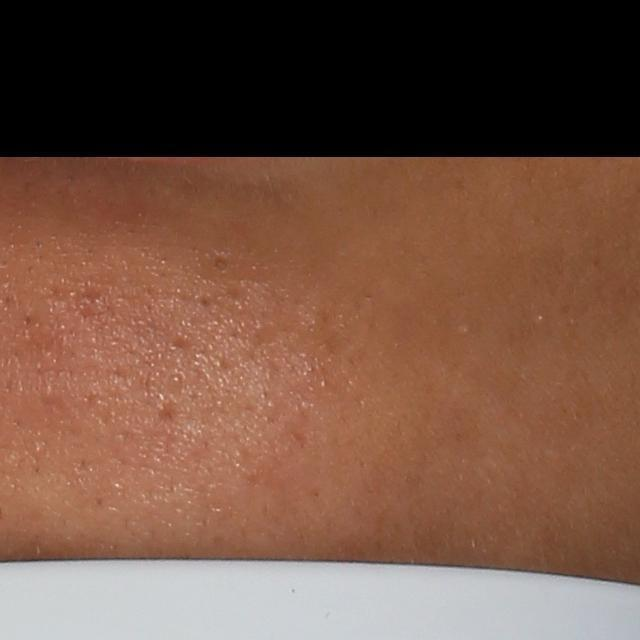atrophic_scar: (78, 279, 110, 305), (154, 398, 183, 426), (167, 331, 193, 357), (196, 290, 216, 309)
comedo: (212, 249, 233, 272)
